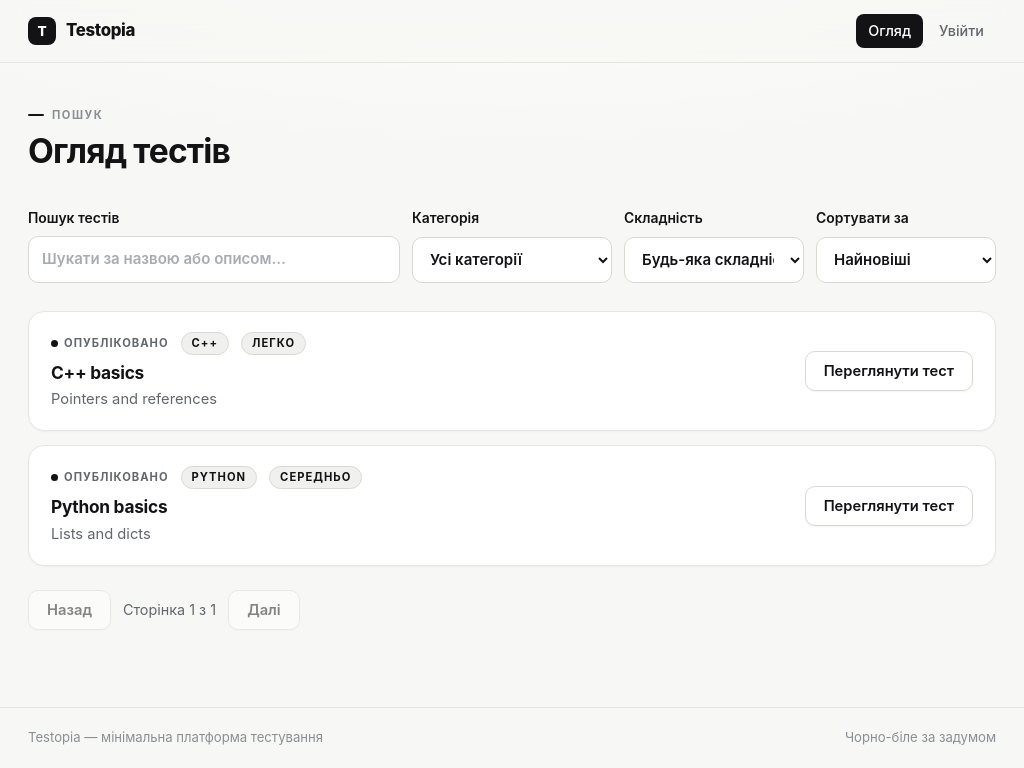
it: browse search and filters › searches tests by title and description
The width and height of the screenshot is (1024, 768).
Expected: the heading "C++ basics" is shown, [51, 362, 144, 383]
Expected: the heading "Python basics" is shown, [51, 496, 167, 517]
Type "pointers" into the search field labelled "Пошук тестів" at [214, 260], box [28, 236, 400, 283]
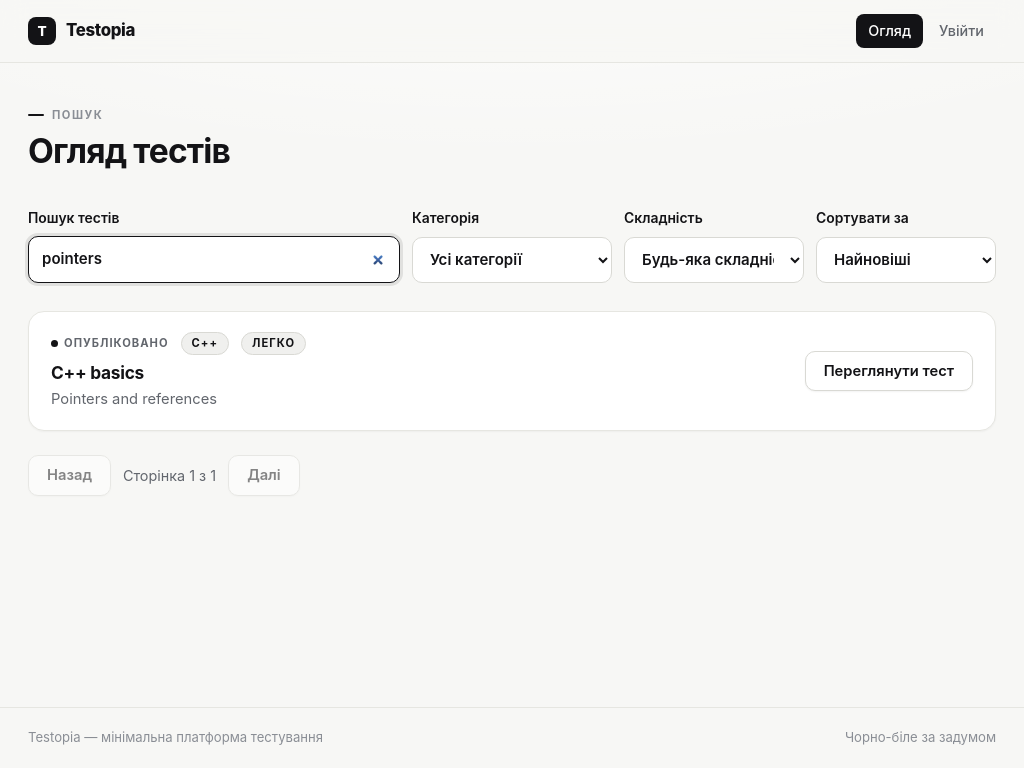
Expected: the heading "C++ basics" is shown, [51, 362, 144, 383]
Now the heading "Python basics" is gone
